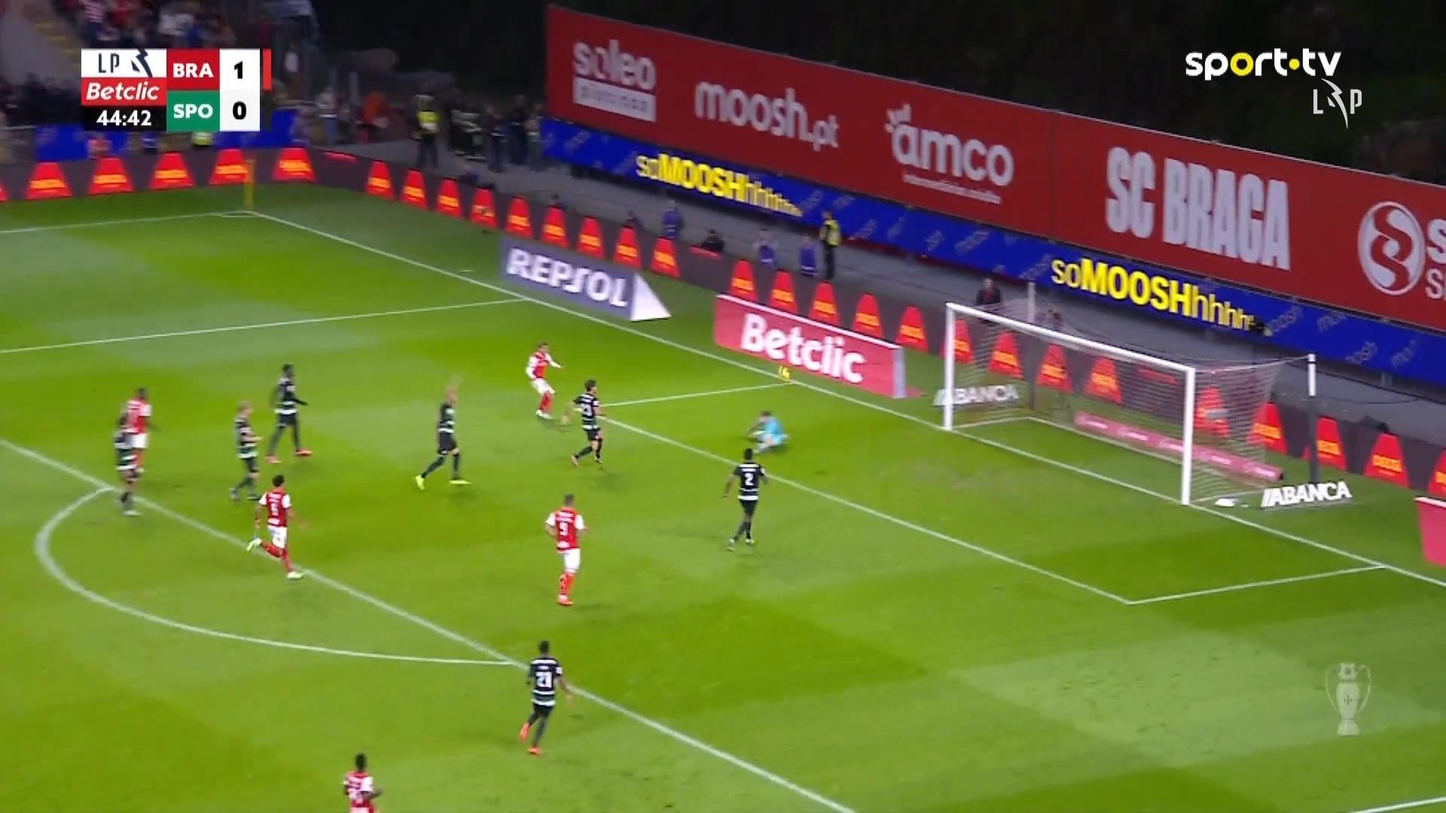ball: (779, 365, 792, 380)
goalkeeper: (746, 408, 789, 454)
player: (517, 639, 572, 755), (245, 473, 304, 580), (413, 384, 471, 491), (112, 385, 154, 516), (543, 492, 587, 606), (721, 446, 768, 550), (264, 362, 312, 462), (559, 378, 606, 467), (228, 400, 263, 501), (524, 341, 563, 419), (341, 751, 382, 811)
